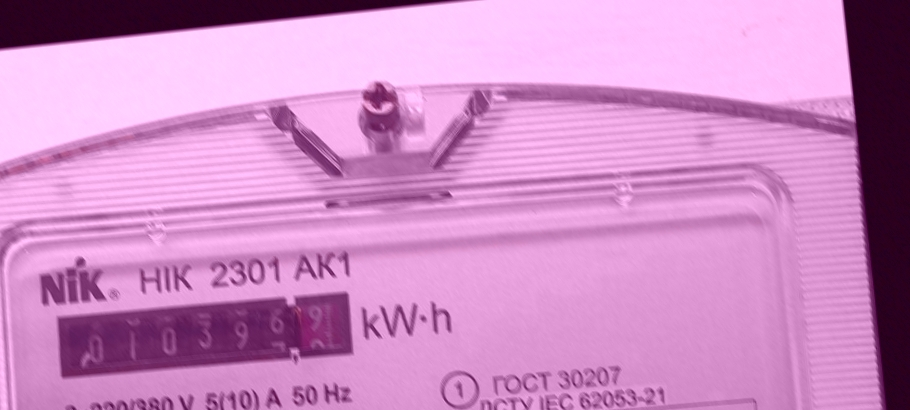0: (154, 321, 179, 357), (81, 329, 104, 364)
1: (122, 326, 138, 360)
3: (192, 316, 214, 350)
6: (262, 304, 286, 335)
9: (226, 316, 250, 351), (300, 301, 324, 333)
screen: (37, 271, 364, 398)
